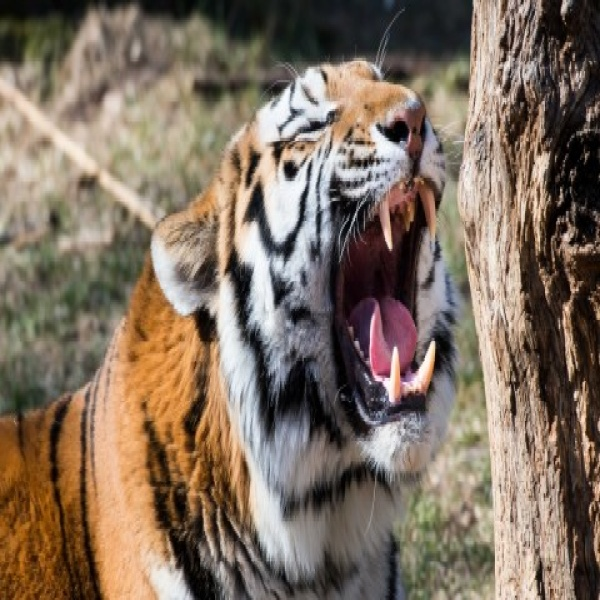Tiger: (3, 51, 463, 600)
